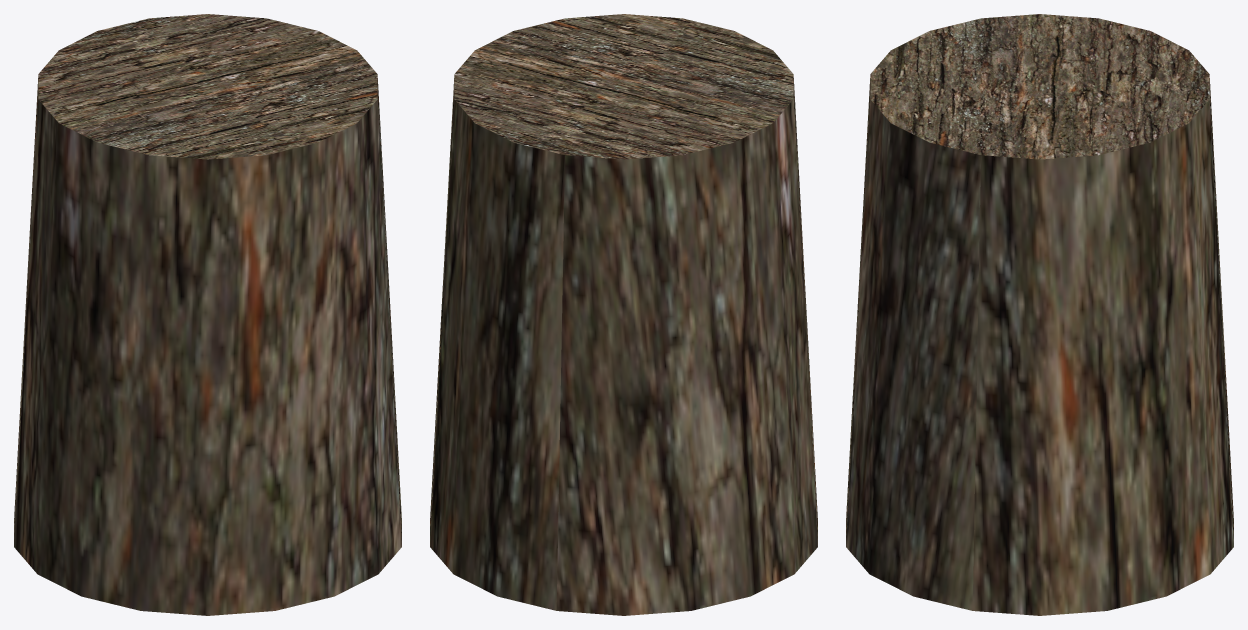
Rendered from tree3.FBX.
3 renders of one model, left to right at view 1: azimuth 30°, elevation 25°; view 2: azimuth 150°, elevation 25°; view 3: azimuth 270°, elevation 25°, orthographic.
Parts seen in each view (by area): view 1: tree3; view 2: tree3; view 3: tree3.
Boxes of the visible parts, x1,y1,x2,y2 form: tree3: (14, 14, 401, 615); tree3: (430, 14, 817, 615); tree3: (846, 14, 1233, 615).
Bounding box in the file's own units: 10 × 12.5 × 9.85.
